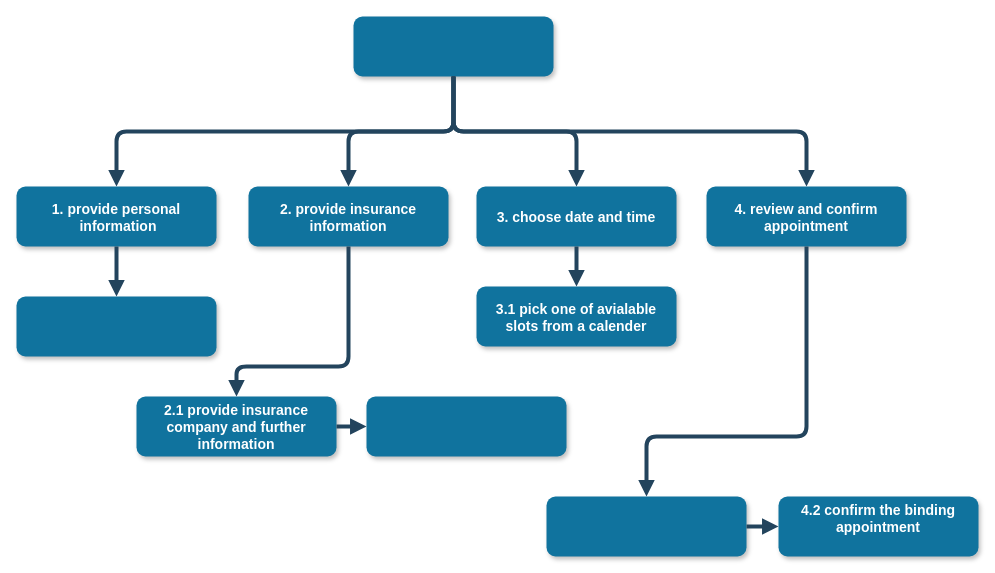
Image size: 995x573. Some labels were removed from this diagram. The centre of each missing label's shape, as x and y in pixels:
"0. Book a real appointment" belongs at (454,47).
"1.1 provide address and phone number and further information" belongs at (117,327).
"2.2 if there is no insurance, provide financial plan to cover the cost" belongs at (467,427).
"4.1 check all your information for any mistakes" belongs at (647,527).
